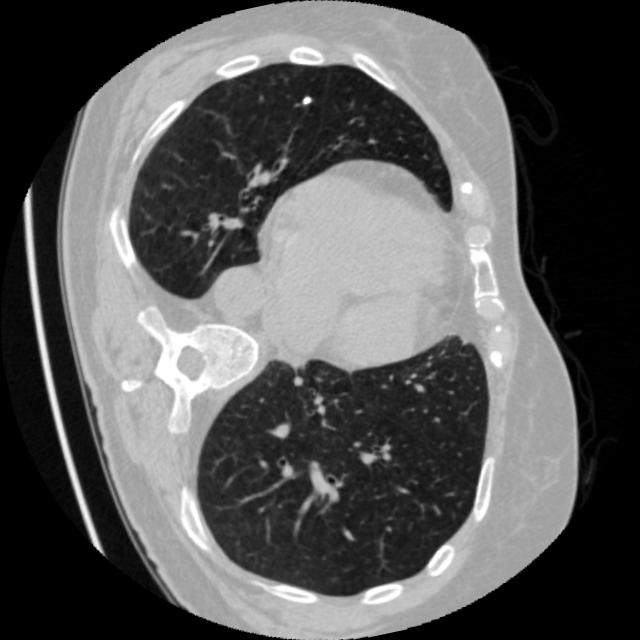nodule: (296, 90, 321, 114)
